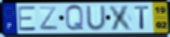E: (17, 5, 38, 32)
Q: (64, 4, 85, 33)
T: (134, 6, 151, 31)
U: (85, 5, 108, 32)
X: (108, 5, 135, 32)
Z: (38, 5, 60, 31)
